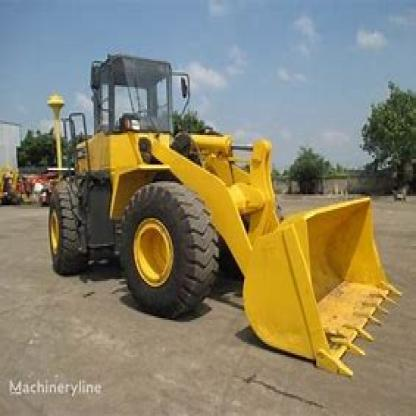bull_dozer/loader/grader: (40, 43, 404, 388)
